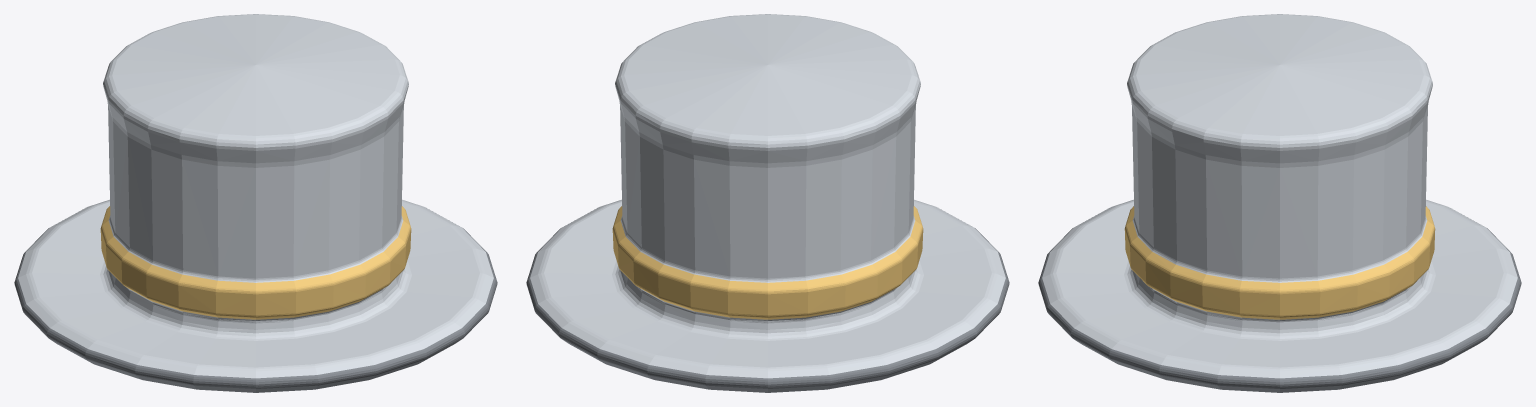
The model's file is HatTop.obj.
3 renders of one model, left to right at view 1: azimuth 30°, elevation 25°; view 2: azimuth 150°, elevation 25°; view 3: azimuth 270°, elevation 25°, orthographic.
Bounding box in the file's own units: 1.96 × 1.07 × 1.96.
